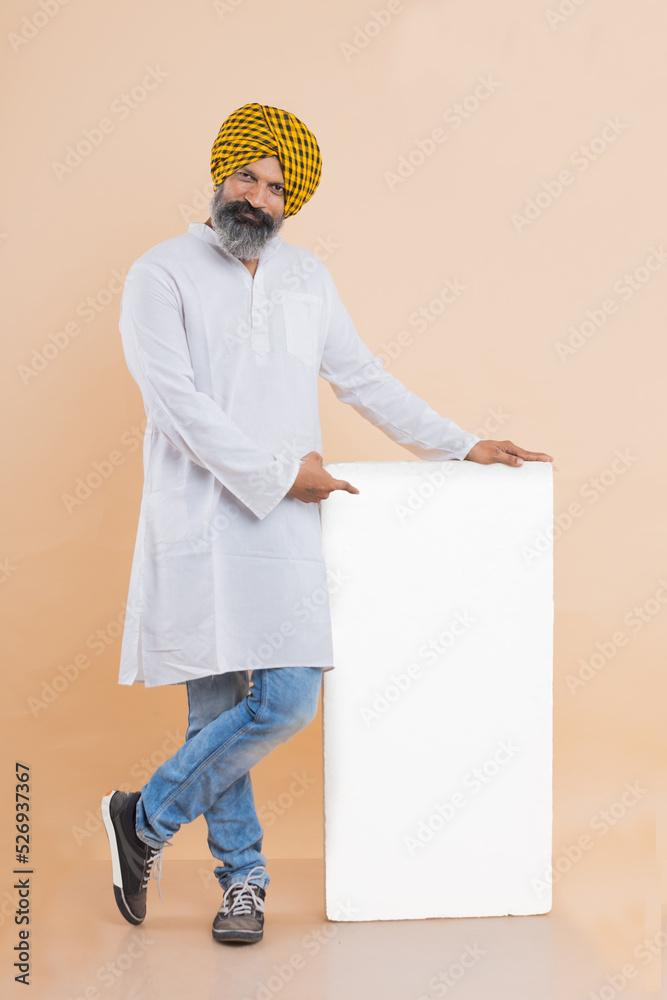Human: (93, 84, 446, 974)
